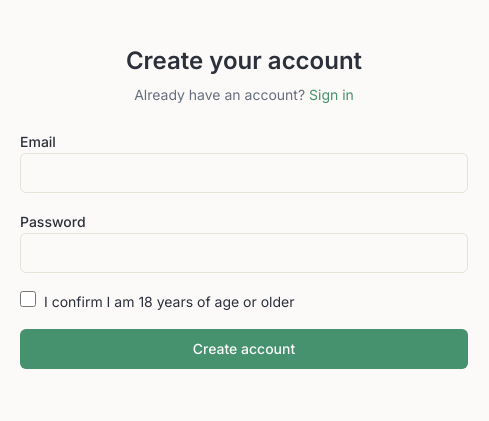
SignUpPage › shows amber error banner on network failure
Type "user@example.com" into the field labelled "Email" at [244, 173], box [20, 153, 468, 193]
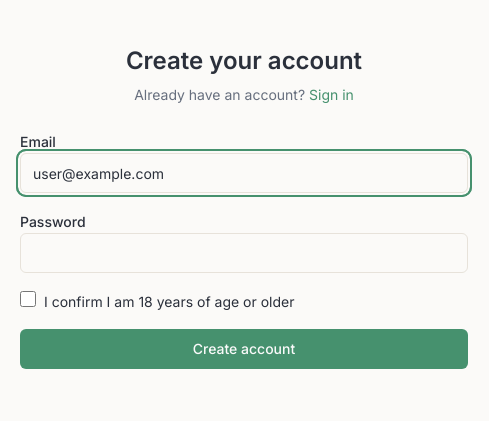
Type "securepassword" into the password field labelled "Password" at [244, 253], box [20, 233, 468, 273]
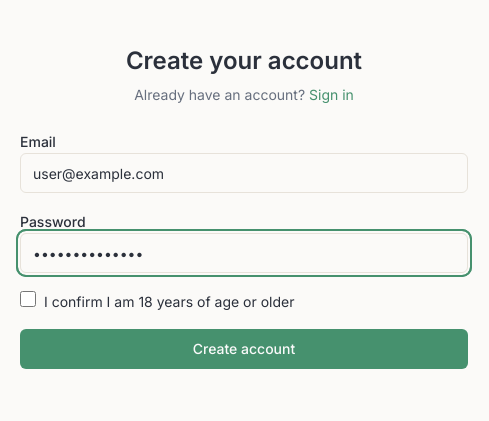
Click the checkbox labelled "I confirm I am 18 years of age or older" at [28, 299], box [20, 291, 36, 307]
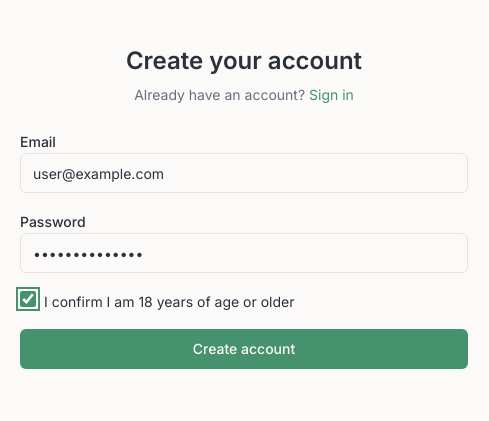
Click the button "Create account" at [244, 349], box [20, 329, 468, 369]
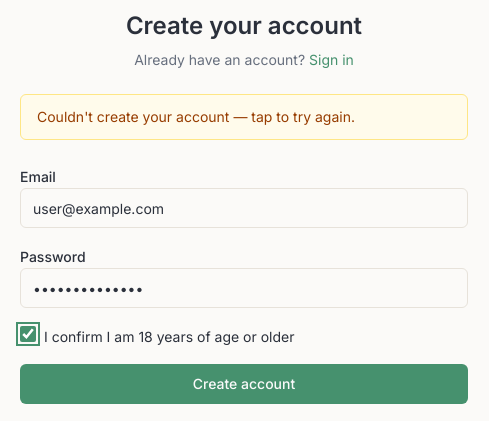
Now the text "Couldn't create your account — tap to try again." is shown, box [20, 94, 468, 140]
